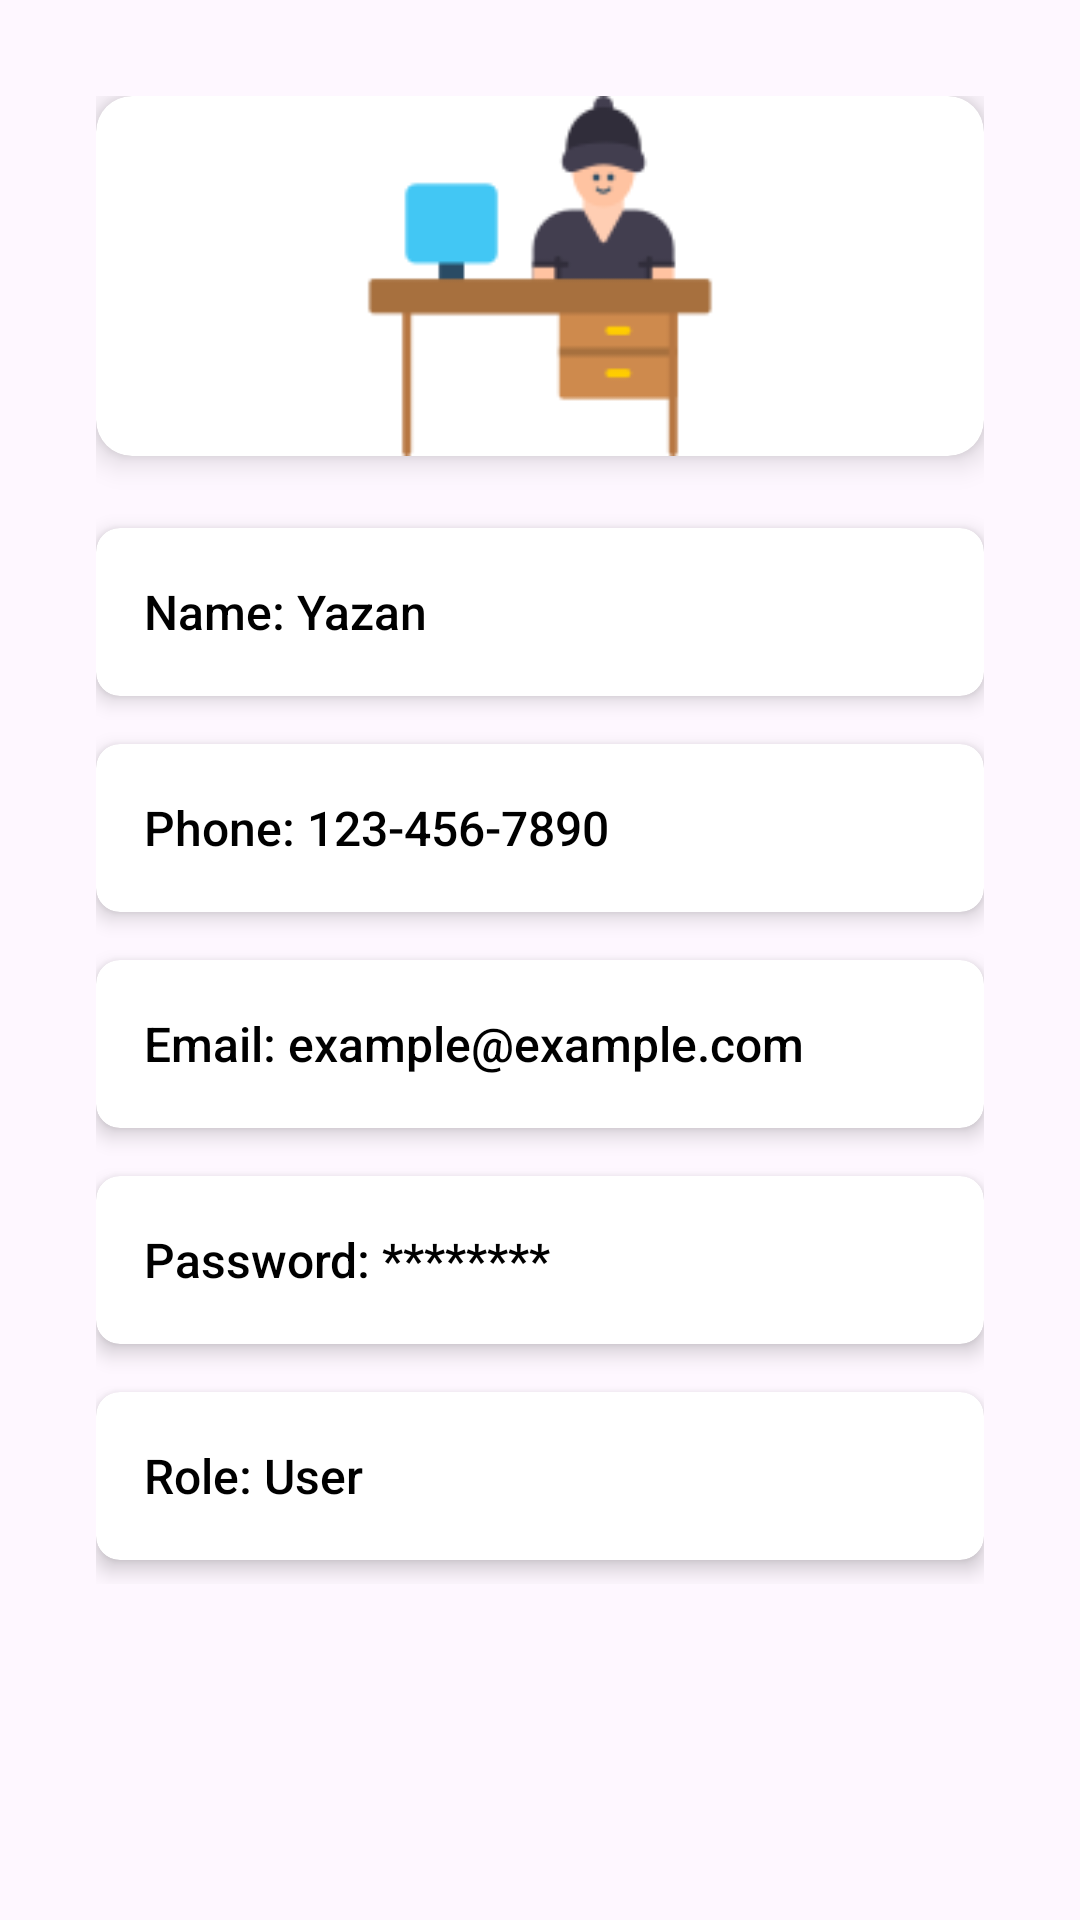

Locate icon controls on the screen. Image size 1080px x 1920px, boxes as (x1, y1, x2, y2).
profile: (368, 96, 712, 456)
